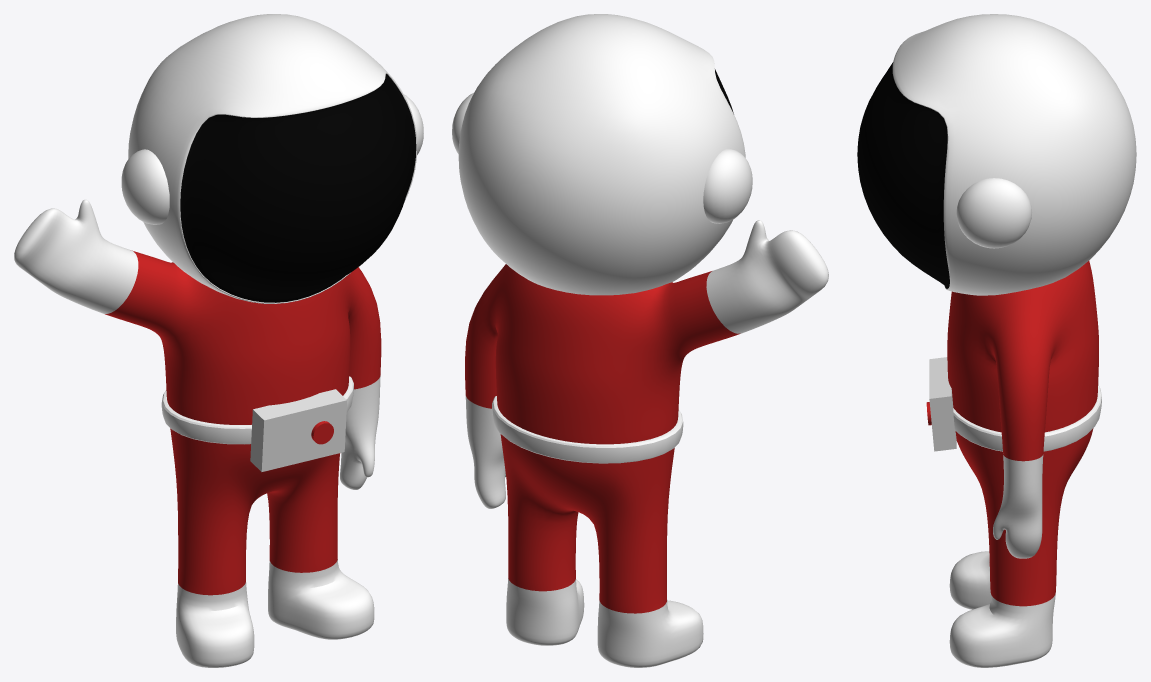
File: astronaut.glb
3 views of the same model, side by side, from view 1: azimuth 30°, elevation 25°; view 2: azimuth 150°, elevation 25°; view 3: azimuth 270°, elevation 25° (orthographic).
Visible parts, largest first — view 1: Roundcube.011, Roundcube.013, Roundcube.015, Cube.001, Roundcube.012, Roundcube.014; view 2: Roundcube.011, Roundcube.013, Roundcube.015, Roundcube.014, Roundcube.012; view 3: Roundcube.011, Roundcube.013, Roundcube.015, Roundcube.012, Roundcube.014, Cube.001.
Boxes of the visible parts, box(x1,y1,x2,y2) form: Roundcube.011: box(128, 14, 417, 303); Roundcube.013: box(14, 199, 381, 489); Roundcube.015: box(170, 428, 374, 667); Cube.001: box(250, 389, 347, 471); Roundcube.012: box(121, 94, 423, 224); Roundcube.014: box(161, 376, 353, 444); Roundcube.011: box(458, 14, 745, 295); Roundcube.013: box(465, 220, 828, 508); Roundcube.015: box(500, 434, 703, 667); Roundcube.014: box(492, 396, 683, 463); Roundcube.012: box(452, 92, 752, 223); Roundcube.011: box(857, 14, 1136, 295); Roundcube.013: box(947, 261, 1098, 558); Roundcube.015: box(949, 428, 1093, 667); Roundcube.012: box(956, 178, 1031, 248); Roundcube.014: box(953, 385, 1101, 451); Cube.001: box(929, 357, 956, 451).
Bounding box in the file's own units: 0.65 × 0.9857 × 0.414.
